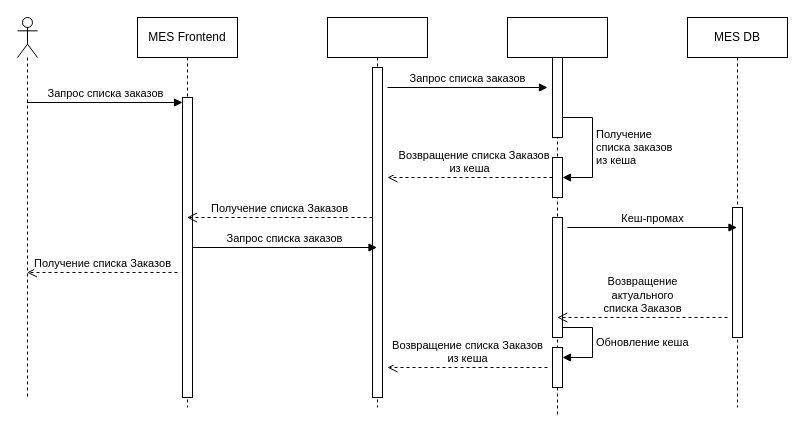
The diagram is 805 pixels wide and 435 high, and some of its shapes have lost their labels. The shapes that lost their labels are listed below. From the top down, each one's box as (x1, y1, x2, y2) in pixels, then its label:
(326, 16, 428, 408): MES API
(506, 16, 608, 418): Кеш Redis
